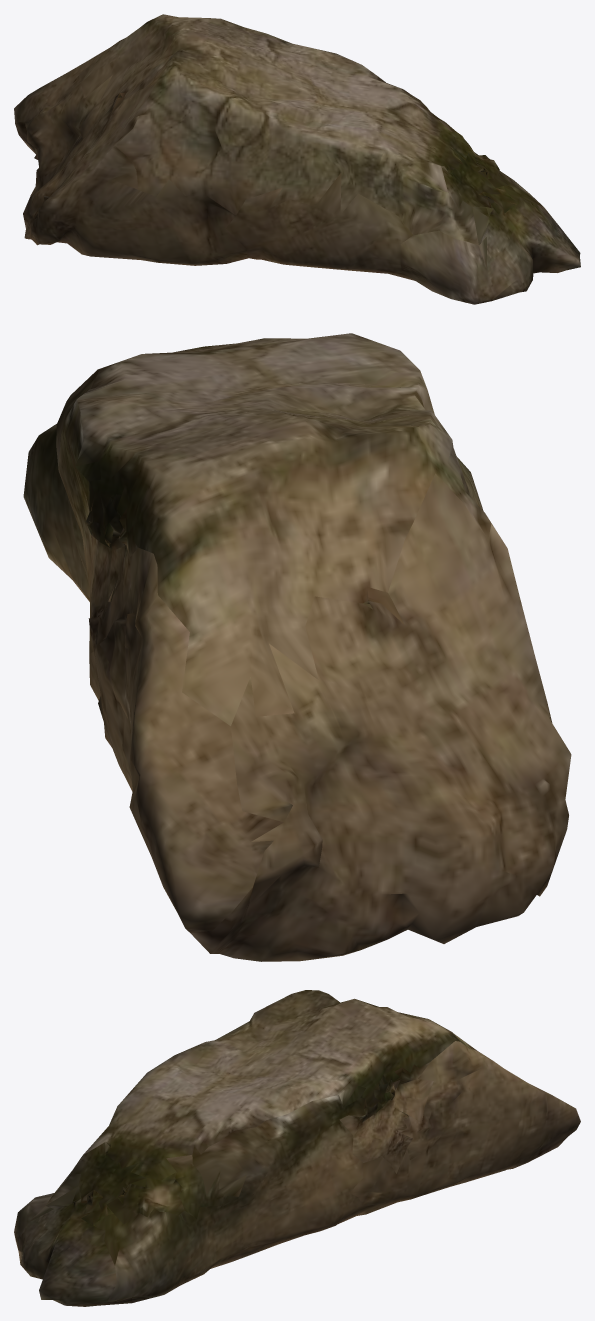
File: mossrock_2.gltf
3 views of the same model, one above another, from view 1: azimuth 30°, elevation 25°; view 2: azimuth 150°, elevation 25°; view 3: azimuth 270°, elevation 25° (orthographic). The views are drawn at different scales.
Parts seen in each view (by area): view 1: mossrock_2; view 2: mossrock_2; view 3: mossrock_2.
Part boxes in pixels (x1,y1,x2,y2): mossrock_2: [14, 14, 580, 304]; mossrock_2: [23, 333, 571, 961]; mossrock_2: [14, 990, 580, 1306].
Size of the model in its own units: 2.65 by 1.26 by 3.27.
1 material, 1 textured.
